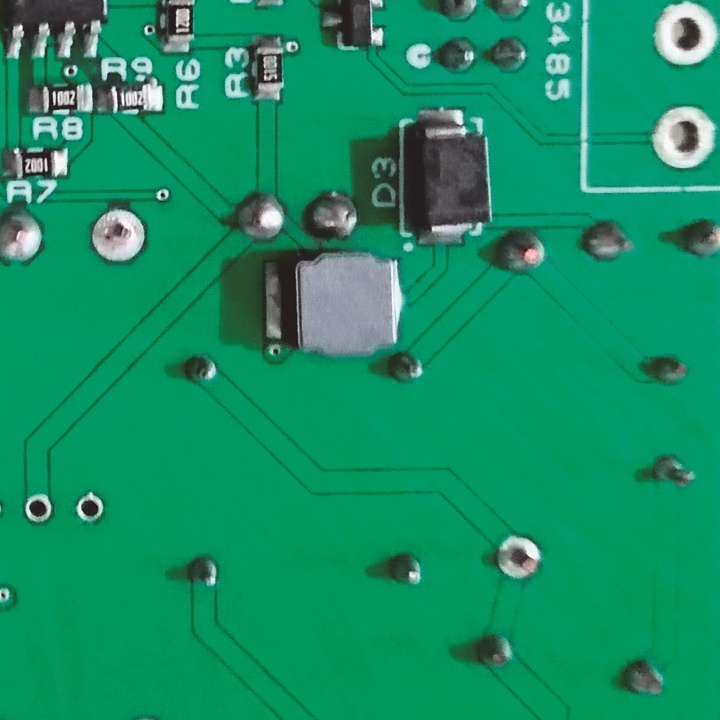F: (650, 1, 720, 73), (647, 104, 717, 175), (87, 203, 154, 270), (493, 530, 547, 591), (72, 489, 110, 529), (19, 489, 56, 529)
